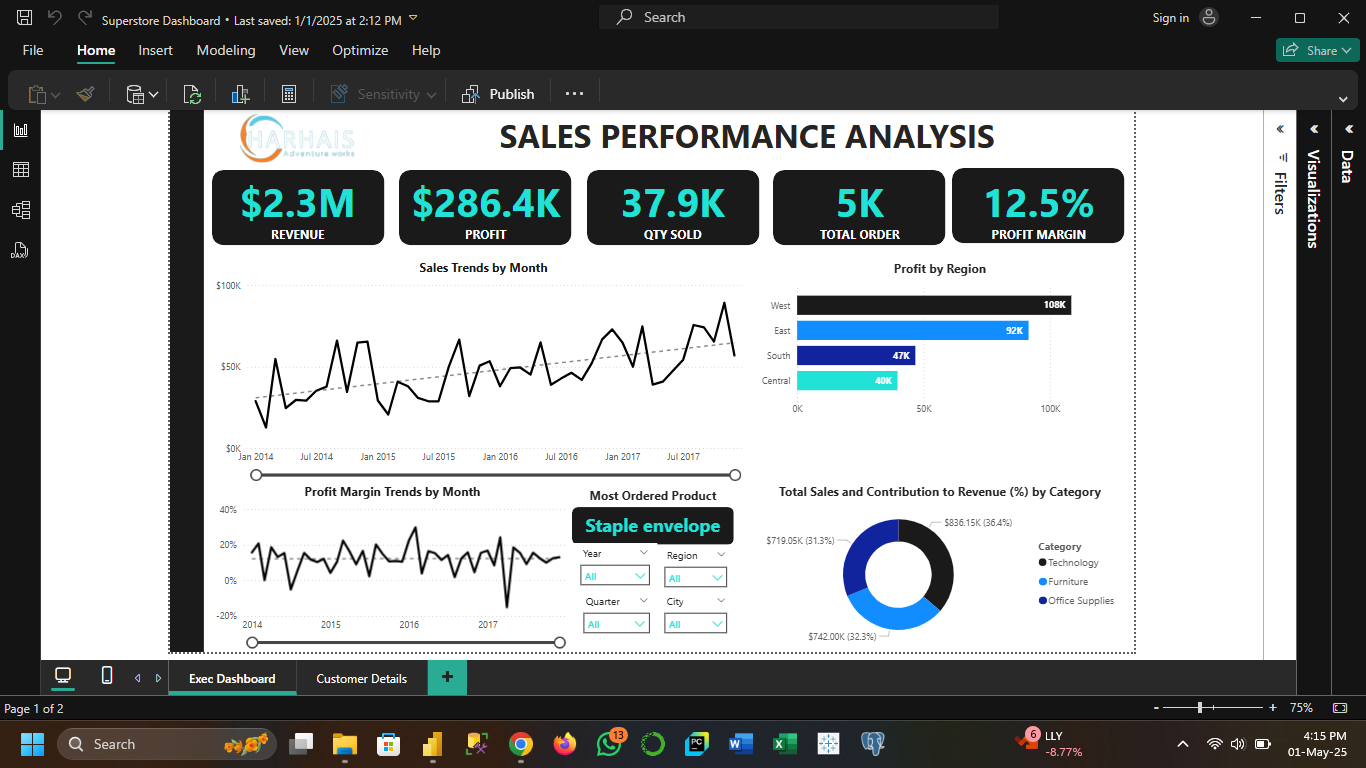

What the dashboard file says about the page in this screenshot:
{"tool":"powerbi","page":{"name":"Exec Dashboard","canvas":[1280,720],"ordinal":0},"visuals":[{"type":"shape","title":"Left Background","box":[0,0,45,720],"z":0},{"type":"shape","box":[55.9,80.7,229.4,100.1],"z":0,"group":"g1"},{"type":"image","title":"Logo","box":[55.3,0,224.1,74.7],"z":1000},{"type":"shape","box":[304.2,80.7,229.4,100.1],"z":2000,"group":"g1"},{"type":"lineChart","title":"Sales Trends by Month","fields":{"Category":["Sample - Superstore.Order Date.Variation.Date Hierarchy.Year","Sample - Superstore.Order Date.Variation.Date Hierarchy.Month"],"Y":["Measures (2).Total Sales"]},"box":[55.8,197.9,721.3,297.6],"z":2000},{"type":"clusteredBarChart","title":"Profit by Region","fields":{"Y":["Sum(Sample - Superstore.Profit)"],"Category":["Sample - Superstore.Region"]},"box":[776.8,198.7,491.5,216.6],"z":3000},{"type":"shape","box":[800.8,80.7,229.4,100.1],"z":4000,"group":"g1"},{"type":"lineChart","title":"Profit Margin Trends by Month","fields":{"Category":["Sample - Superstore.Order Date.Variation.Date Hierarchy.Year","Sample - Superstore.Order Date.Variation.Date Hierarchy.Month"],"Y":["Measures (2).Profit Margin"]},"box":[55.3,495.9,479.5,222.6],"z":4000},{"type":"shape","box":[553.6,80.7,229.4,100.1],"z":5000,"group":"g1"},{"type":"donutChart","fields":{"Category":["Sample - Superstore.Category"],"Y":["Measures (2).Total Sales"]},"box":[776.8,495.9,491.5,222.6],"z":5000},{"type":"textbox","box":[279.3,0,975.4,76.2],"z":6000},{"type":"card","fields":{"Values":["Measures (2).Total Sales"]},"box":[55.3,74.7,227.9,113.5],"z":6000,"group":"g1"},{"type":"group","id":"g1","title":"Group 1","box":[55.3,74.7,1212.9,113.5],"z":7000},{"type":"card","fields":{"Values":["Measures (2).Total Profit"]},"box":[304.5,74.7,227.9,113.5],"z":7000,"group":"g1"},{"type":"card","fields":{"Values":["Measures (2).Total QTY"]},"box":[553.6,74.7,227.9,113.5],"z":8000,"group":"g1"},{"type":"shape","box":[534.2,527.5,215,50.4],"z":8000},{"type":"card","fields":{"Values":["Measures (2).Total Order"]},"box":[801.3,74.7,227.9,113.5],"z":9000,"group":"g1"},{"type":"card","fields":{"Values":["Min(Sample - Superstore.Product Name)"]},"box":[534.2,527.5,215,50.4],"z":9000},{"type":"textbox","box":[534.2,495.5,215,31.9],"z":10000},{"type":"slicer","fields":{"Values":["Sample - Superstore.Order Date.Variation.Date Hierarchy.Year"]},"box":[534.8,575.1,112,64.2],"z":10001},{"type":"slicer","fields":{"Values":["Sample - Superstore.Region"]},"box":[646.8,578.1,103.1,61.2],"z":10002},{"type":"slicer","fields":{"Values":["Sample - Superstore.City"]},"box":[646.8,639.3,103.1,64.2],"z":10003},{"type":"slicer","fields":{"Values":["Sample - Superstore.Order Date.Variation.Date Hierarchy.Quarter"]},"box":[539.3,639.3,107.6,64.2],"z":10004},{"type":"shape","box":[1038.8,77.2,229.4,100.1],"z":16000,"group":"g1"},{"type":"card","fields":{"Values":["Measures (2).Profit Margin"]},"box":[1039.5,74.7,227.9,113.5],"z":17000,"group":"g1"}]}

Visuals, with their boxes on the page's 1280x720 design canvas (x1, y1, x2, y2). These are canvas units, not pixel positions in the 1366x768 screenshot, which may show the page scaled, cropped or inside an application window:
"Left Background" shape: l=0, t=0, r=45, b=720
shape: l=56, t=81, r=285, b=181
"Logo" image: l=55, t=0, r=279, b=75
shape: l=304, t=81, r=534, b=181
"Sales Trends by Month" lineChart: l=56, t=198, r=777, b=496
"Profit by Region" clusteredBarChart: l=777, t=199, r=1268, b=415
shape: l=801, t=81, r=1030, b=181
"Profit Margin Trends by Month" lineChart: l=55, t=496, r=535, b=718
shape: l=554, t=81, r=783, b=181
donutChart - Sample - Superstore.Category x Measures (2).Total Sales: l=777, t=496, r=1268, b=718
textbox: l=279, t=0, r=1255, b=76
card - Measures (2).Total Sales: l=55, t=75, r=283, b=188
"Group 1" group: l=55, t=75, r=1268, b=188
card - Measures (2).Total Profit: l=304, t=75, r=532, b=188
card - Measures (2).Total QTY: l=554, t=75, r=782, b=188
shape: l=534, t=528, r=749, b=578
card - Measures (2).Total Order: l=801, t=75, r=1029, b=188
card - Min(Sample - Superstore.Product Name): l=534, t=528, r=749, b=578
textbox: l=534, t=496, r=749, b=527
slicer - Sample - Superstore.Order Date.Variation.Date Hierarchy.Year: l=535, t=575, r=647, b=639
slicer - Sample - Superstore.Region: l=647, t=578, r=750, b=639
slicer - Sample - Superstore.City: l=647, t=639, r=750, b=704
slicer - Sample - Superstore.Order Date.Variation.Date Hierarchy.Quarter: l=539, t=639, r=647, b=704
shape: l=1039, t=77, r=1268, b=177
card - Measures (2).Profit Margin: l=1040, t=75, r=1267, b=188
